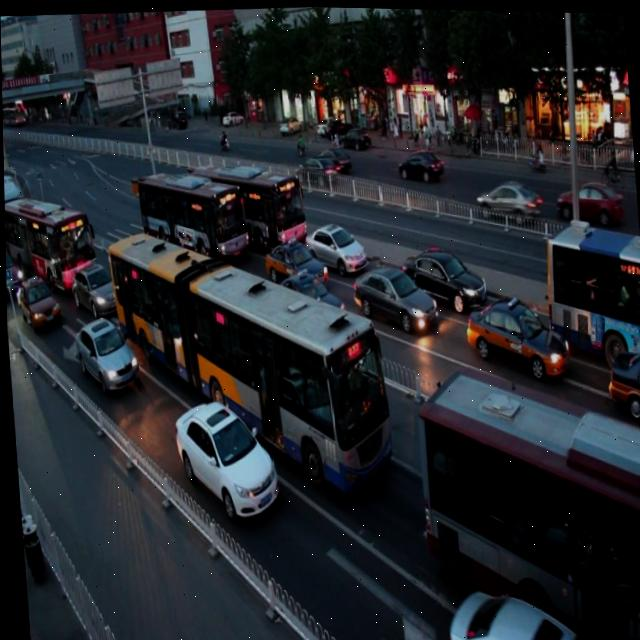car: (169, 394, 278, 521), (463, 286, 571, 385), (437, 573, 581, 640), (349, 255, 436, 337), (402, 237, 487, 312), (265, 264, 348, 337), (72, 313, 137, 398), (260, 229, 327, 296), (301, 212, 365, 278), (68, 259, 125, 320), (603, 339, 640, 418), (16, 271, 60, 330), (4, 252, 24, 296)
van: (104, 213, 395, 504), (414, 358, 640, 640), (539, 212, 640, 359), (134, 159, 249, 273), (190, 150, 308, 256), (3, 188, 96, 288)
